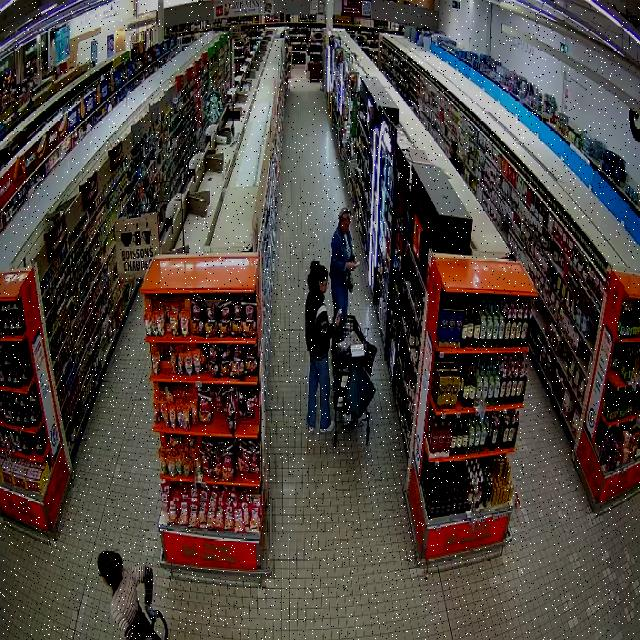article: (336, 308, 343, 318), (352, 260, 361, 266)
hands: (146, 605, 159, 622), (345, 263, 358, 270), (334, 316, 340, 326)
person: (305, 260, 341, 431), (98, 550, 160, 639), (329, 208, 358, 314)
